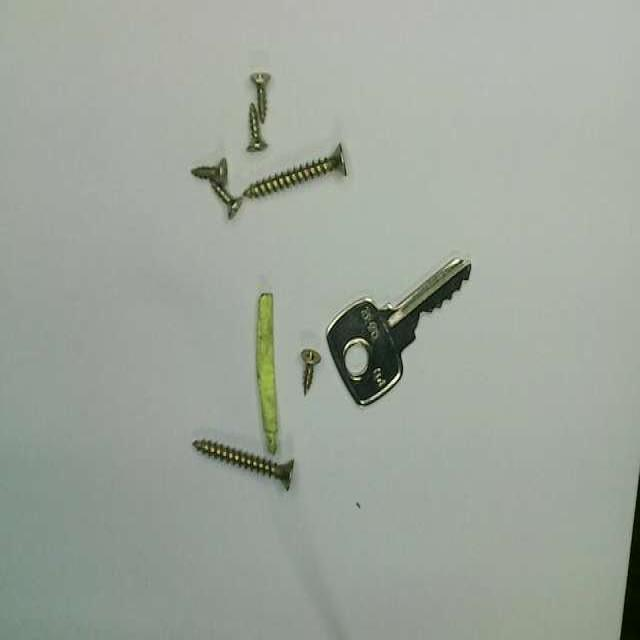Parafuso: (243, 144, 346, 197), (193, 441, 292, 489), (210, 180, 242, 217), (191, 157, 226, 185), (250, 73, 270, 121), (247, 103, 267, 149), (302, 349, 320, 393)
